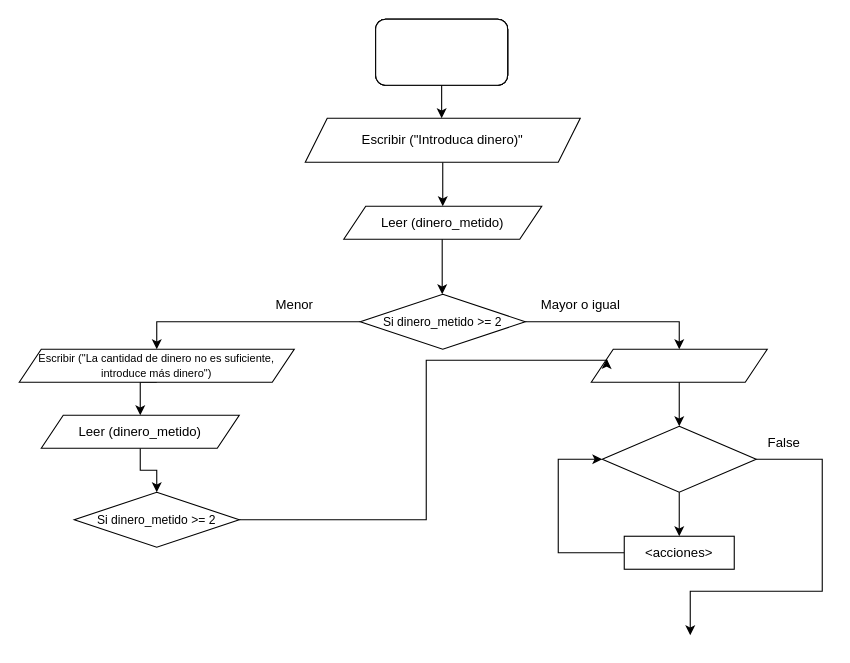
The diagram is 850 pixels wide and 663 high, and some of its shapes have lost their labels. The shapes that lost their labels are listed below. From the top down, each one's centre as x and y in pixels, then its label:
the point at 441,51: INICIO
the point at 678,365: Entregar Botella
the point at 678,458: <exp lógica>
